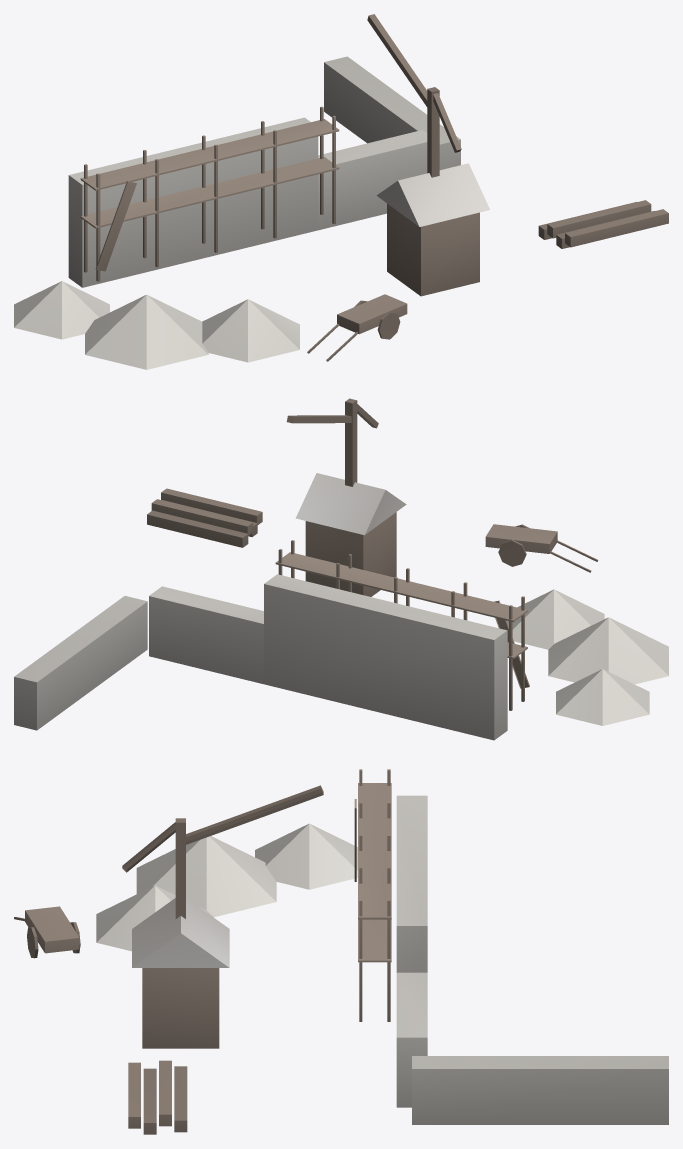
File: worksite_1.glb
The picture shows the model from 3 angles, top to bottom: view 1: azimuth 30°, elevation 25°; view 2: azimuth 150°, elevation 25°; view 3: azimuth 270°, elevation 25°; orthographic projection. The views are drawn at different scales.
Parts seen in each view (by area): view 1: worksite_1; view 2: worksite_1; view 3: worksite_1.
Boxes of the visible parts, x1,y1,x2,y2 form: worksite_1: (14, 14, 668, 369); worksite_1: (14, 398, 668, 740); worksite_1: (14, 769, 668, 1134).
Bounding box in the file's own units: 29.24 × 11.44 × 25.5.
